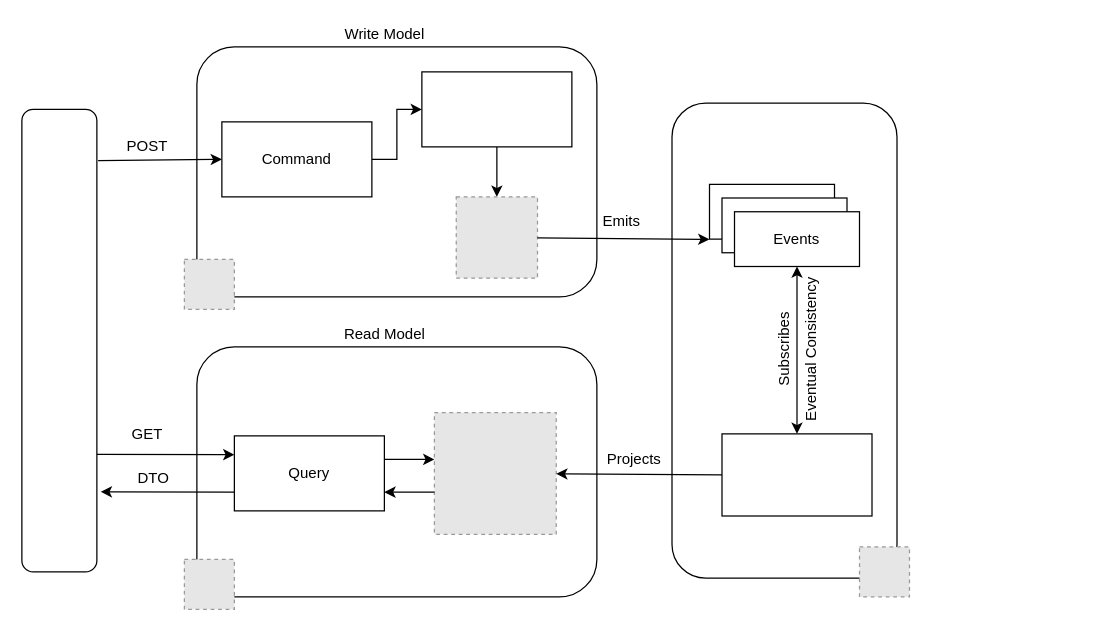
This 1106x631 diagram has some shape labels left out. Grey dashed boxes stand in for pictures. The centre of each missing label's shape, as x and y in pixels:
"CommandHandler" belongs at (x=496, y=109).
"Projection Engine" belongs at (x=796, y=474).
"UI" belongs at (x=59, y=340).
